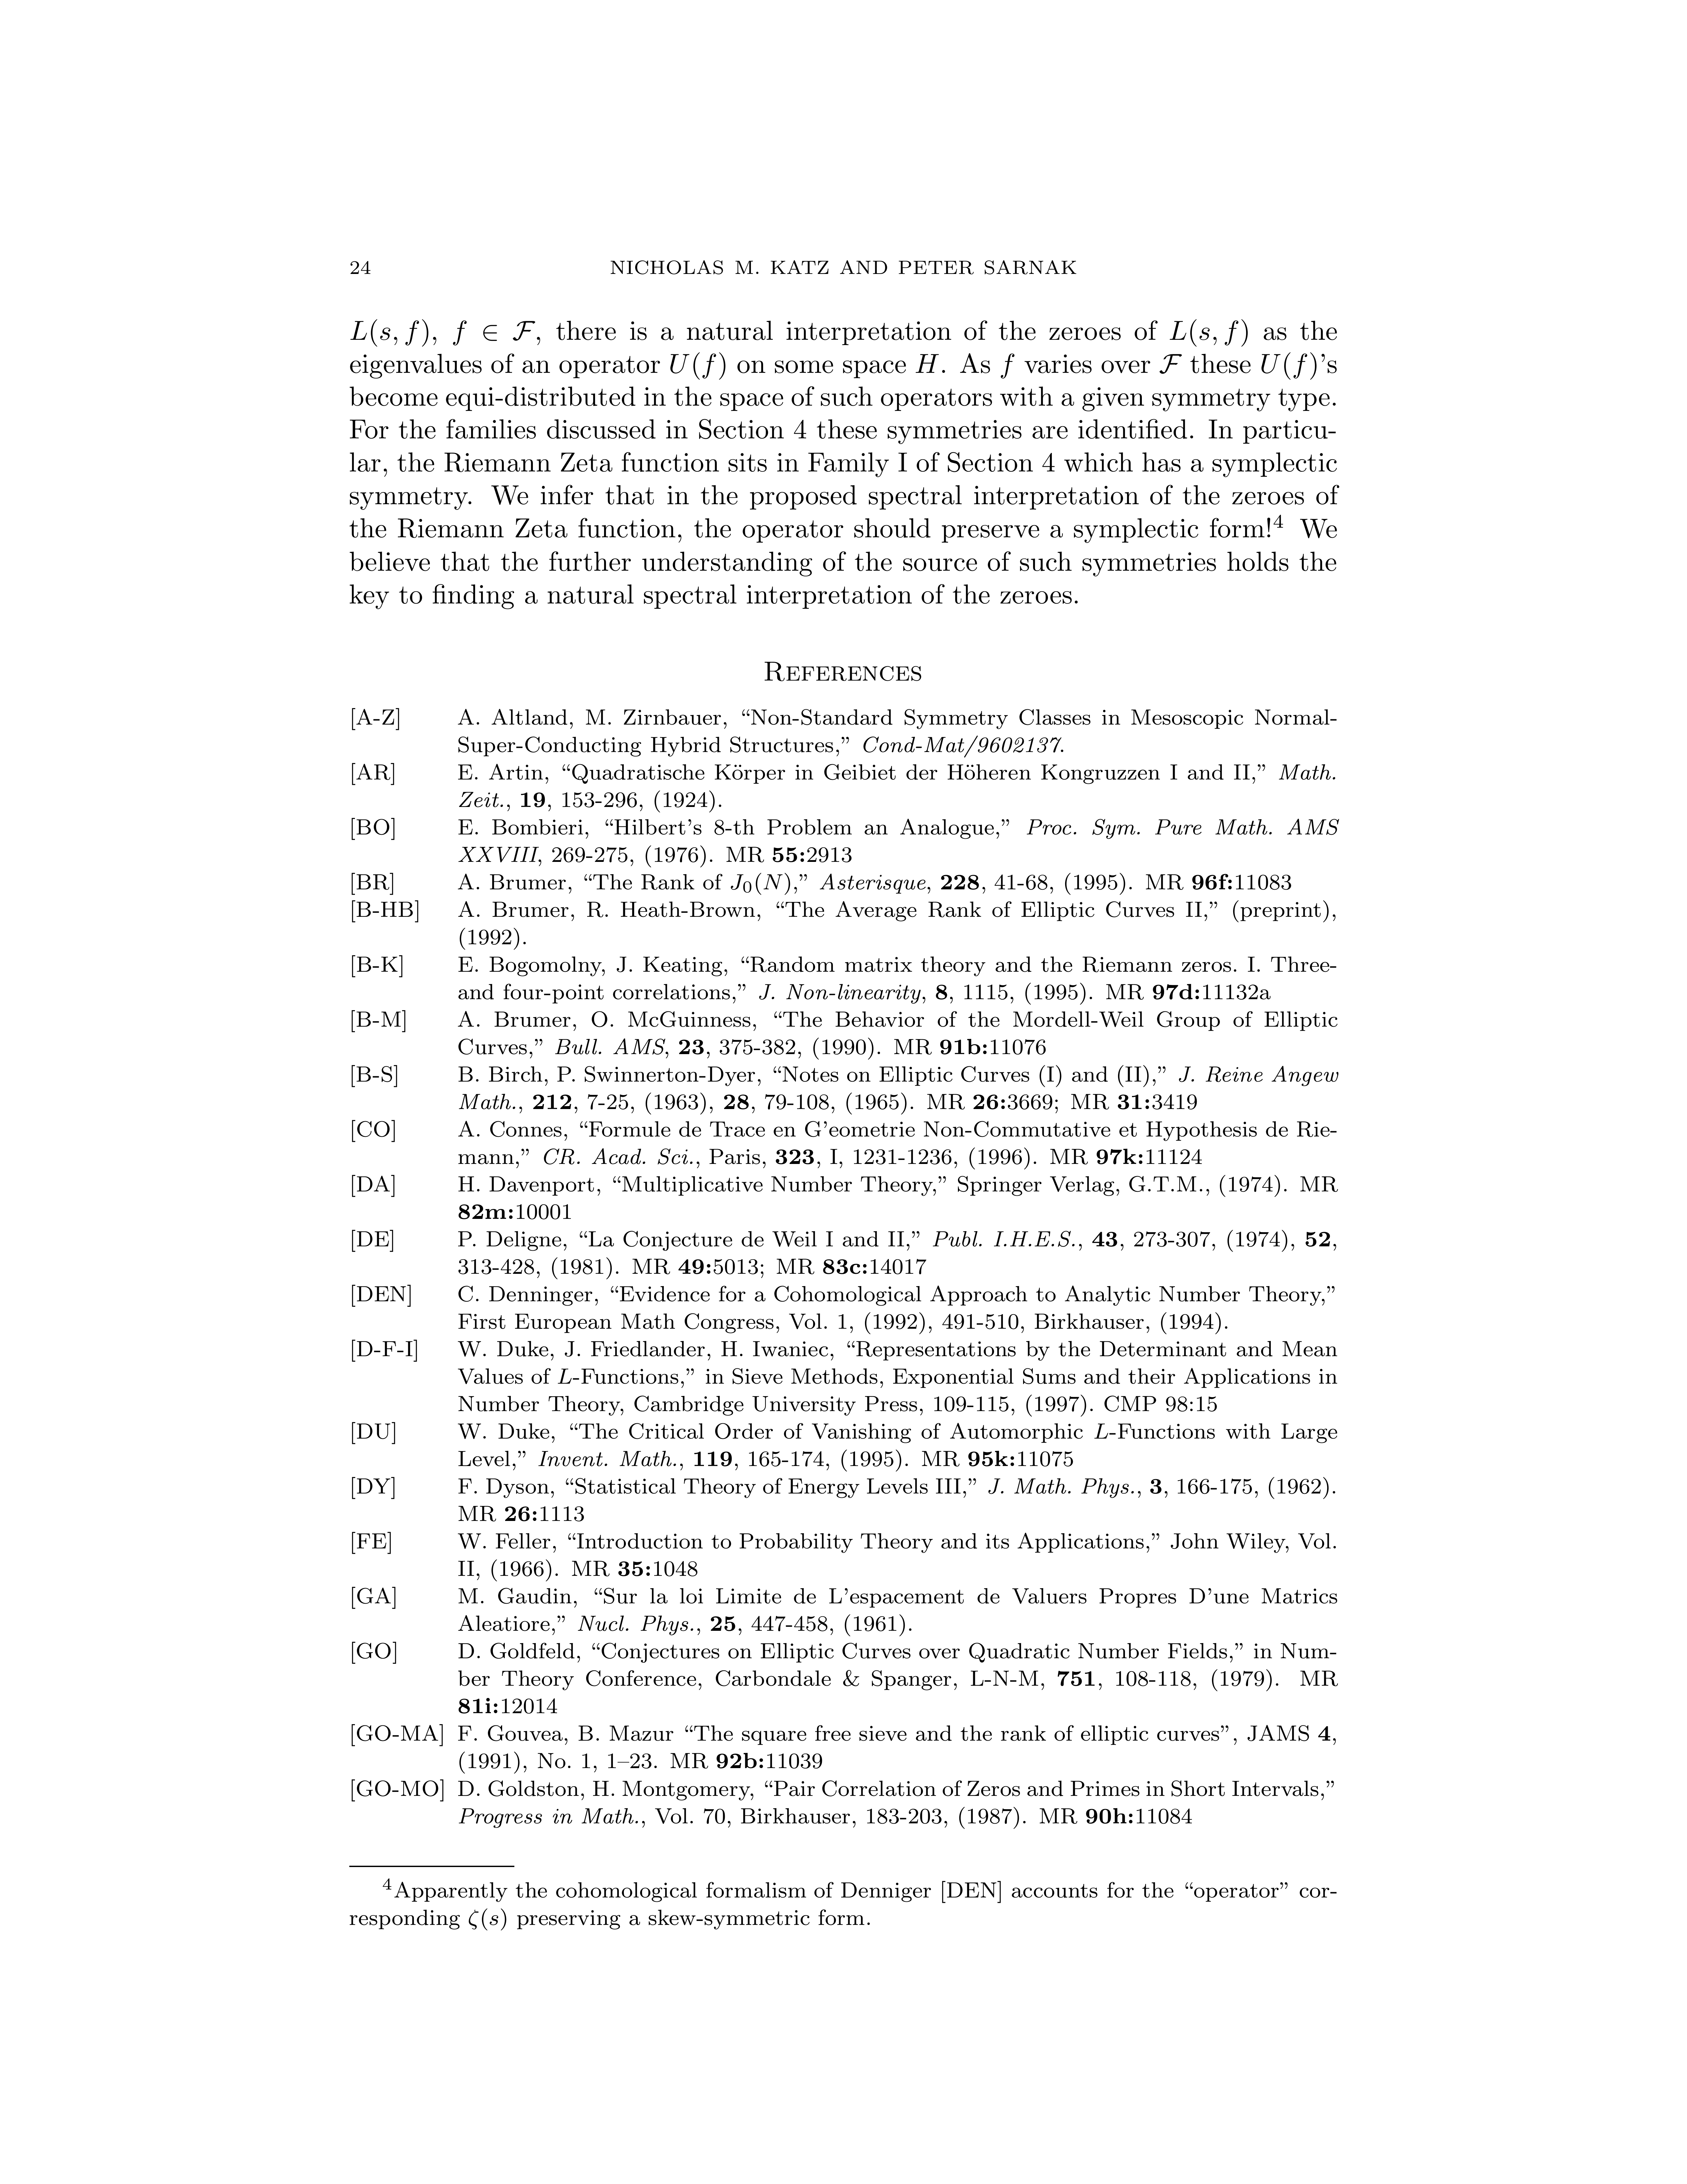maths: (351, 319, 436, 346), (1170, 319, 1248, 346), (454, 321, 535, 346), (670, 353, 725, 379), (1262, 353, 1317, 379), (730, 872, 790, 895), (470, 1909, 505, 1930), (1159, 355, 1182, 374), (916, 355, 939, 372), (1001, 355, 1014, 378)
